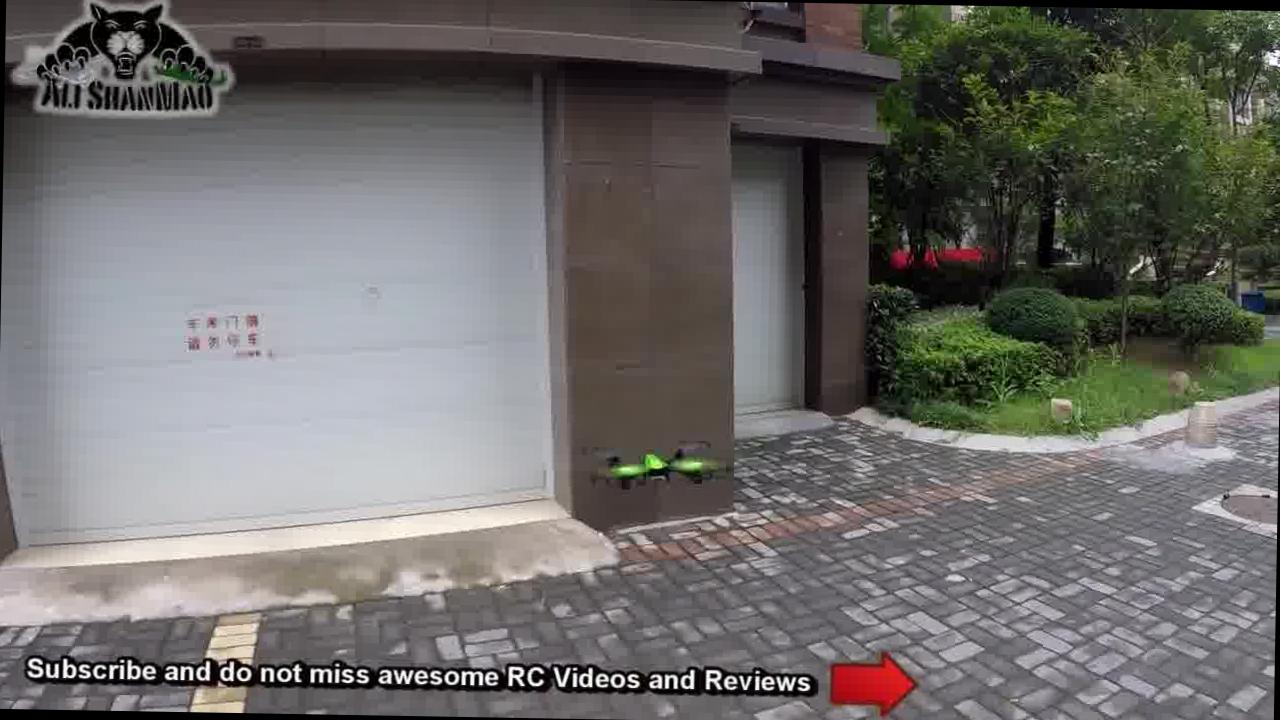drone: (574, 432, 726, 510)
